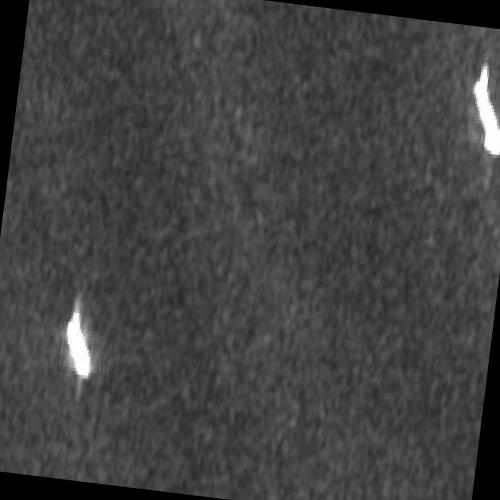ship: (471, 65, 500, 154), (65, 309, 91, 377)
